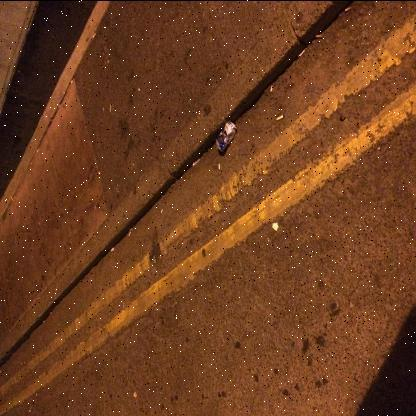metal: (216, 120, 237, 152)
